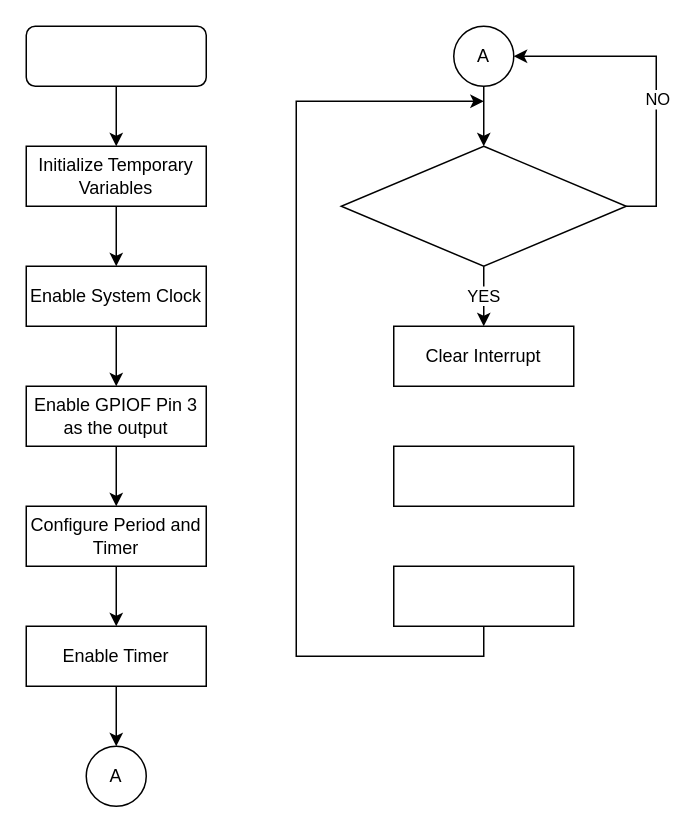
Some shapes in this 696 by 833 pixel diagram are drawn without their labels. Each missing label, with the centre of its shape:
"If Timer Interrupt happened" belongs at pixel 483 205.
"Read in pin information" belongs at pixel 483 475.
"START" belongs at pixel 115 55.
"Write back the opposite state" belongs at pixel 483 595.
